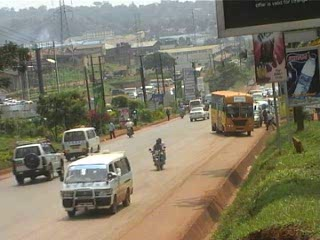Car: (10, 141, 67, 185), (188, 105, 211, 122)
Motorcycle: (147, 146, 170, 173), (122, 121, 135, 138), (177, 106, 186, 120)
